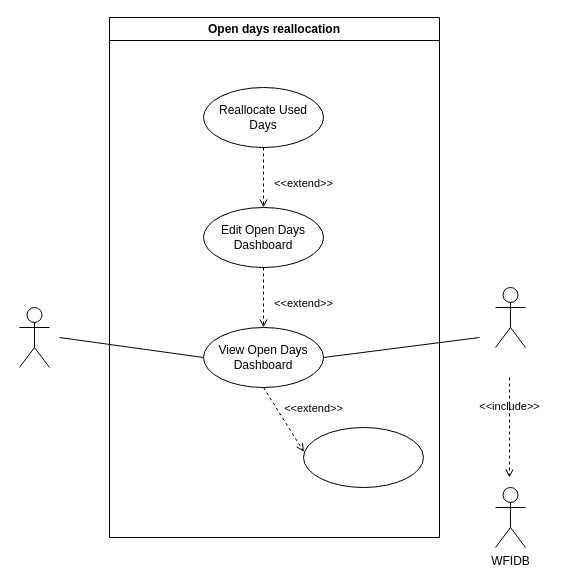
Some shapes in this 582 by 586 pixel diagram are drawn without their labels. The shapes that lost their labels are listed below. From the top down, each one's box as (x1, y1, x2, y2) in pixels, then its label:
(18, 306, 50, 368): Admin
(494, 286, 526, 348): TravelMate Backend
(302, 426, 424, 488): View travelers
